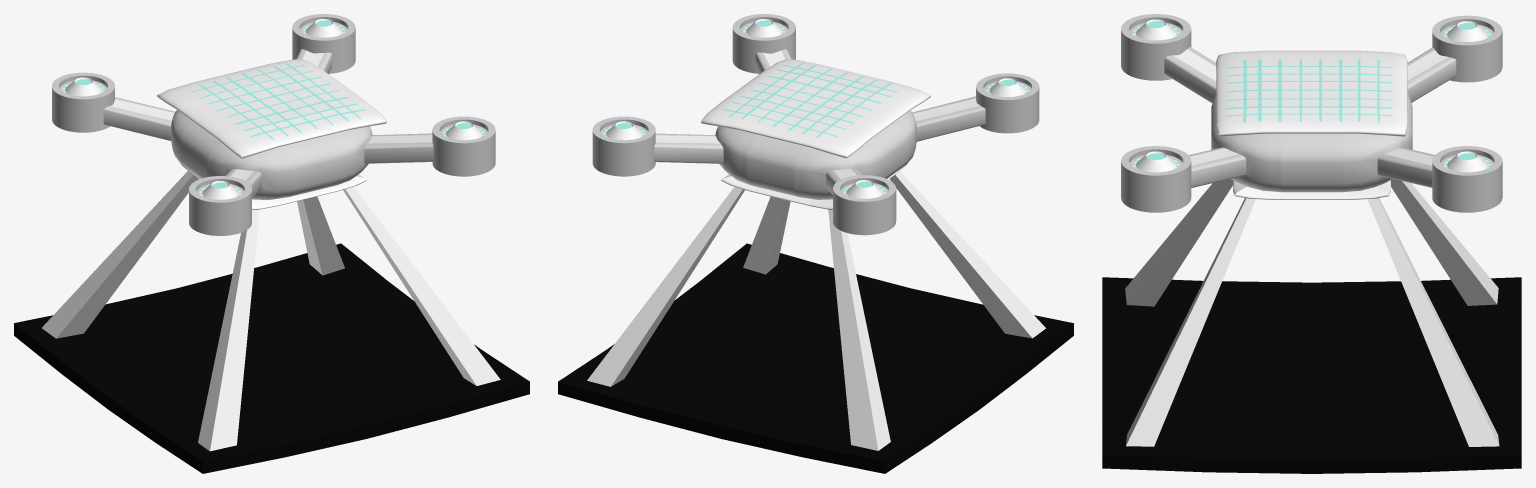
File: Drone.fbx
3 renders of one model, left to right at view 1: azimuth 30°, elevation 25°; view 2: azimuth 150°, elevation 25°; view 3: azimuth 270°, elevation 25°, orthographic. The views are drawn at different scales.
Parts seen in each view (by area): view 1: Cube; view 2: Cube; view 3: Cube.
Part boxes in pixels (box(x1,y1,x2,y2)): Cube: box(14, 14, 529, 473); Cube: box(558, 14, 1073, 473); Cube: box(1102, 14, 1521, 473).
Bounding box in the file's own units: 416 × 337 × 416.
